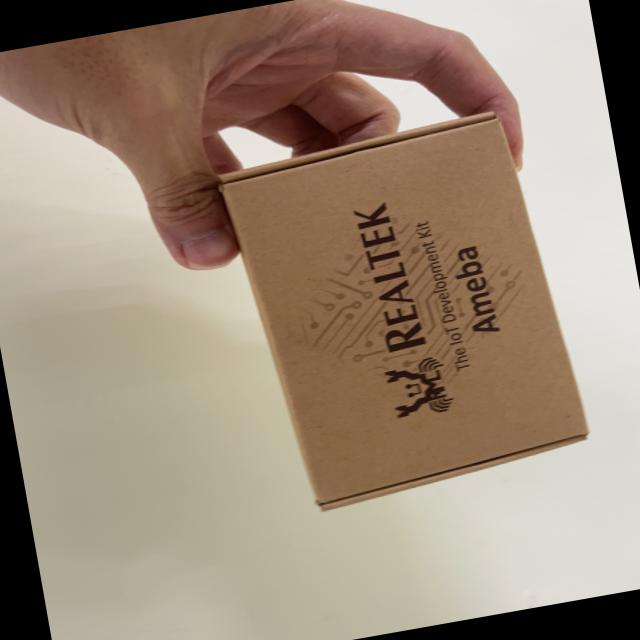box: (187, 99, 605, 538)
